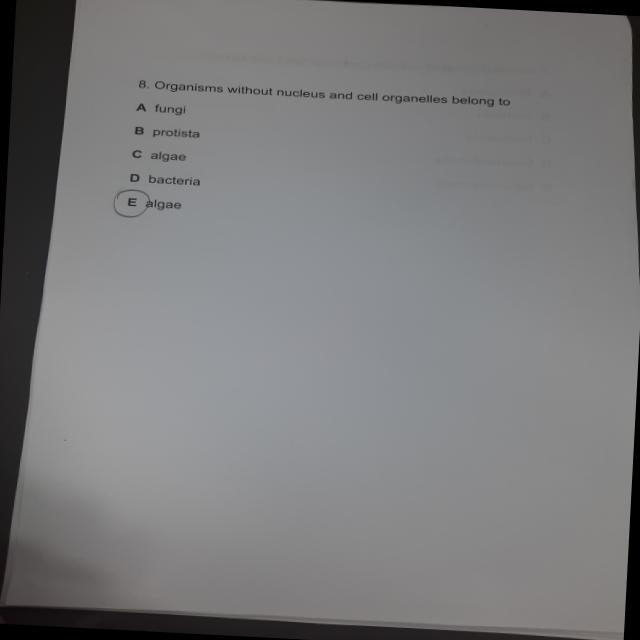E: (107, 186, 152, 219)
